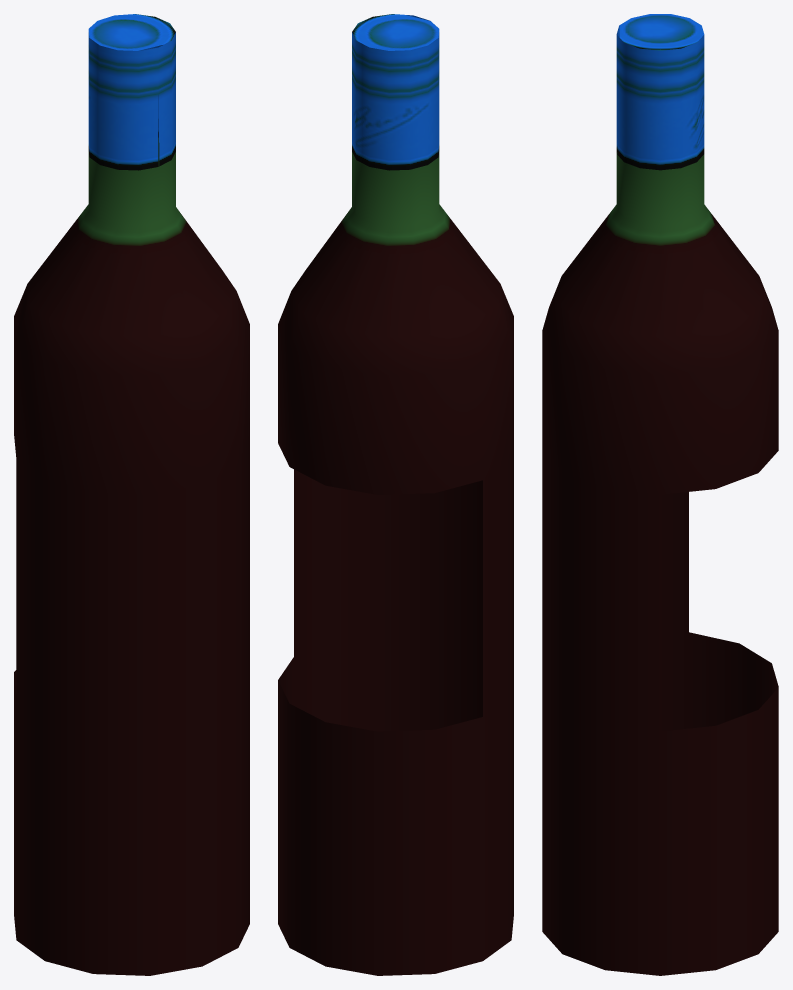
Rendered from Bottle_Wine1.fbx.
3 views of the same model, side by side, from view 1: azimuth 30°, elevation 25°; view 2: azimuth 150°, elevation 25°; view 3: azimuth 270°, elevation 25° (orthographic).
Parts seen in each view (by area): view 1: Bottle_Wine1; view 2: Bottle_Wine1; view 3: Bottle_Wine1.
Boxes of the visible parts, bbox=[...] form: Bottle_Wine1: bbox=[14, 14, 249, 975]; Bottle_Wine1: bbox=[278, 14, 513, 975]; Bottle_Wine1: bbox=[542, 14, 778, 975].
Bounding box in the file's own units: 7.64 × 32.06 × 7.69.
